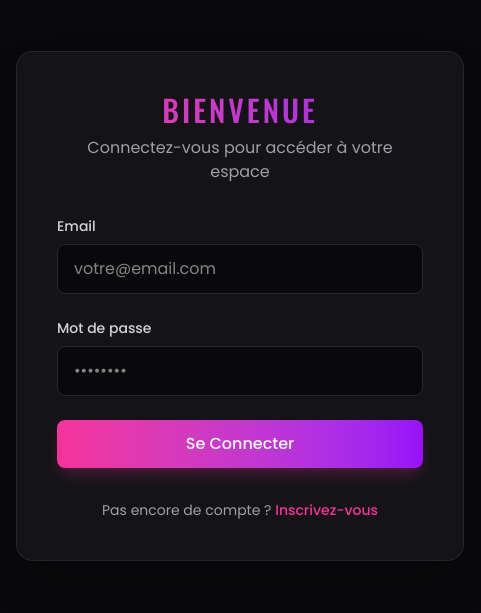
Test: Login Page › devrait afficher une erreur si la connexion échoue
This screenshot has width=481, height=613.
# On remplit les champs pour déclencher la soumission proprement
Type "wrong@test.com" into the field with placeholder "votre@email.com" at [240, 269], box [57,244,423,294]
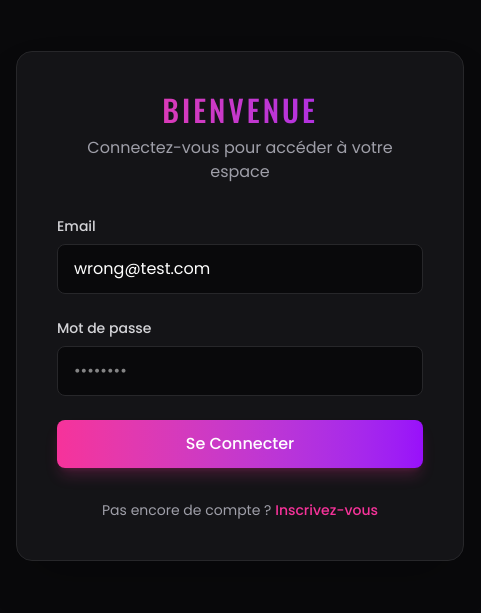
Type "wrongpass" into the password field with placeholder "••••••••" at [240, 371], box [57,346,423,396]
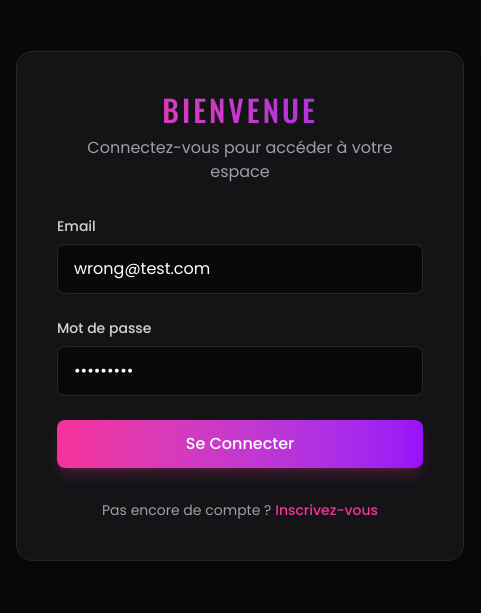
Click the button "Se Connecter" at [240, 444], box [57,420,423,468]
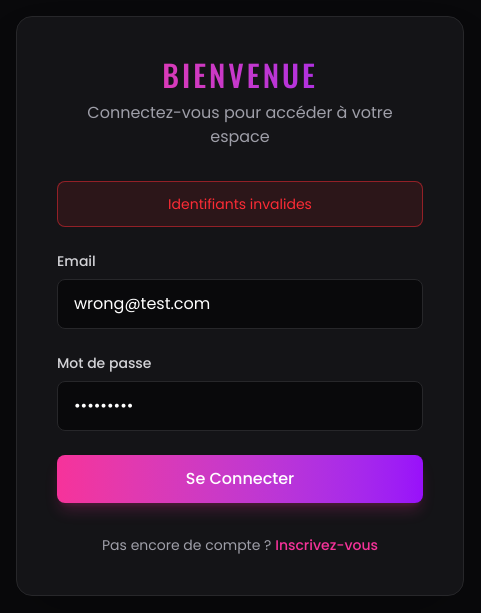
Result: the text "Identifiants invalides" is shown at [57,181,423,227]
